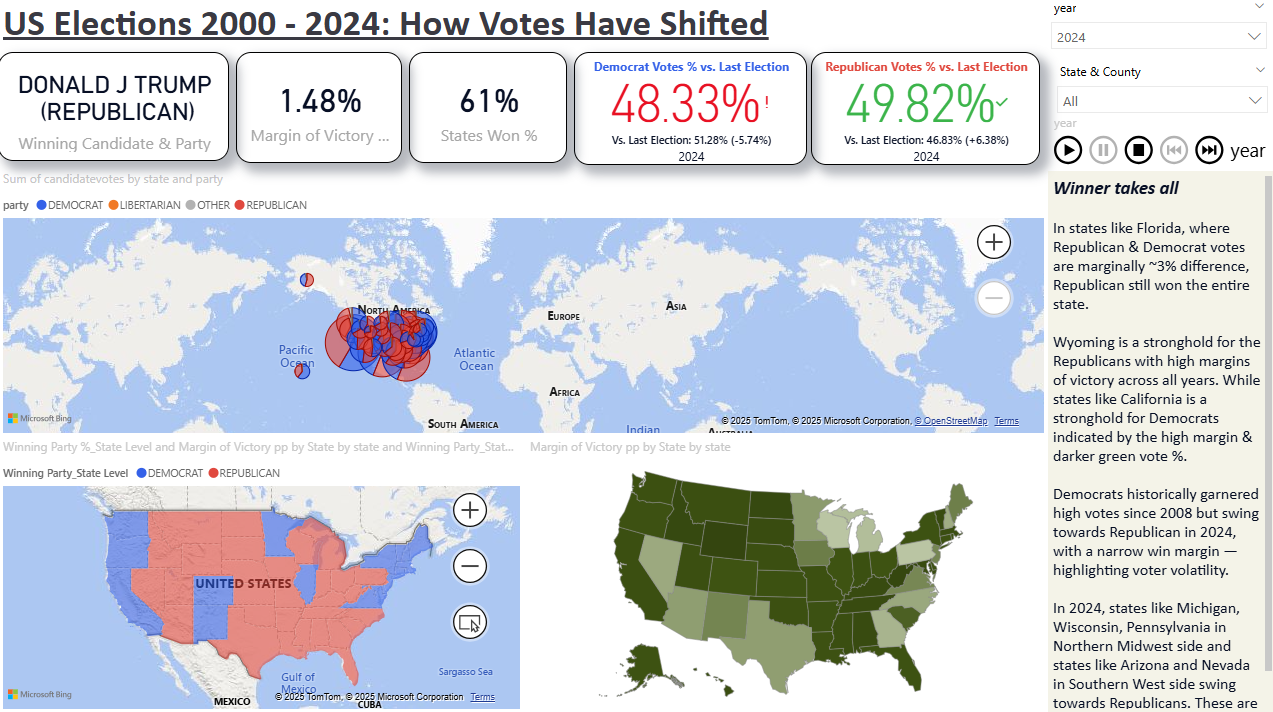

What the dashboard file says about the page in this screenshot:
{"tool":"powerbi","page":{"name":"State Level","canvas":[1280,720],"ordinal":2},"visuals":[{"type":"map","fields":{"Category":["countypres_2000-2024.state"],"Size":["Sum(countypres_2000-2024.candidatevotes)"],"Series":["countypres_2000-2024.party"]},"box":[0,175.6,1051.1,268.9],"z":0},{"type":"filledMap","fields":{"Category":["countypres_2000-2024.state"],"Series":["countypres_2000-2024.Winning Party_State Level"]},"box":[0,444.4,526.7,275.6],"z":1000},{"type":"slicer","fields":{"Values":["countypres_2000-2024.state"]},"box":[1048.9,64.4,231.1,111.1],"z":2000},{"type":"slicer","fields":{"Values":["countypres_2000-2024.year"]},"box":[1042.6,0,236.8,73.5],"z":3000},{"type":"textbox","box":[0,0,1049,64.7],"z":4000},{"type":"card","fields":{"Values":["countypres_2000-2024.Winning Candidate & Party"]},"box":[0,57.8,231.1,108.9],"z":5000},{"type":"card","fields":{"Values":["countypres_2000-2024.Margin of Victory %"]},"box":[237.8,57.8,166.7,111.1],"z":6000},{"type":"kpi","title":"Democrat Votes % vs. Last Election","fields":{"TrendLine":["countypres_2000-2024.year"],"Indicator":["countypres_2000-2024.Votes %"],"Goal":["countypres_2000-2024.Votes % Last Election"]},"box":[575.6,57.8,233.3,113.3],"z":7000},{"type":"kpi","title":"Republican Votes % vs. Last Election","fields":{"TrendLine":["countypres_2000-2024.year"],"Indicator":["countypres_2000-2024.Votes %"],"Goal":["countypres_2000-2024.Votes % Last Election"]},"box":[813.3,57.8,228.9,113.3],"z":8000},{"type":"card","fields":{"Values":["countypres_2000-2024.States Won %"]},"box":[411.1,57.8,157.8,111.1],"z":9000},{"type":"textbox","box":[1050,176.7,230,543.3],"z":10000},{"type":"shapeMap","fields":{"Category":["countypres_2000-2024.state"],"Value":["countypres_2000-2024.Margin of Victory % by State"]},"box":[526.7,444.4,522.2,275.6],"z":11000},{"type":"PBI_CV_16948668_E17D_454B_8664_2F2C470EA8C1","fields":{"category":["countypres_2000-2024.year"]},"box":[1051.1,120,228.9,55.6],"z":12000}]}

Visuals, with their boxes on the page's 1280x720 design canvas (x1, y1, x2, y2). These are canvas units, not pixel positions in the 1273x712 screenshot, which may show the page scaled, cropped or inside an application window:
map - countypres_2000-2024.state x Sum(countypres_2000-2024.candidatevotes): locate(0, 176, 1051, 444)
filledMap - countypres_2000-2024.state x countypres_2000-2024.Winning Party_State Level: locate(0, 444, 527, 720)
slicer - countypres_2000-2024.state: locate(1049, 64, 1280, 176)
slicer - countypres_2000-2024.year: locate(1043, 0, 1279, 74)
textbox: locate(0, 0, 1049, 65)
card - countypres_2000-2024.Winning Candidate & Party: locate(0, 58, 231, 167)
card - countypres_2000-2024.Margin of Victory %: locate(238, 58, 404, 169)
"Democrat Votes % vs. Last Election" kpi: locate(576, 58, 809, 171)
"Republican Votes % vs. Last Election" kpi: locate(813, 58, 1042, 171)
card - countypres_2000-2024.States Won %: locate(411, 58, 569, 169)
textbox: locate(1050, 177, 1280, 720)
shapeMap - countypres_2000-2024.state x countypres_2000-2024.Margin of Victory % by State: locate(527, 444, 1049, 720)
PBI_CV_16948668_E17D_454B_8664_2F2C470EA8C1 - countypres_2000-2024.year: locate(1051, 120, 1280, 176)
